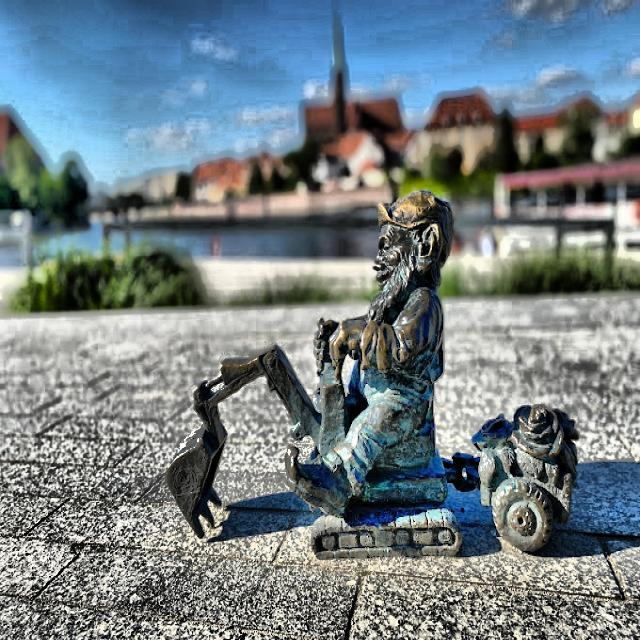Koparkus: (168, 192, 579, 558)
